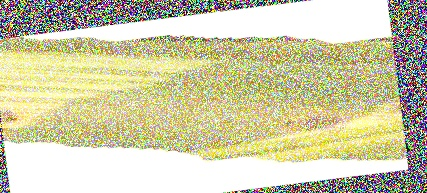Bacterial_Leaf_Blight: (272, 105, 356, 150), (0, 103, 30, 133)
